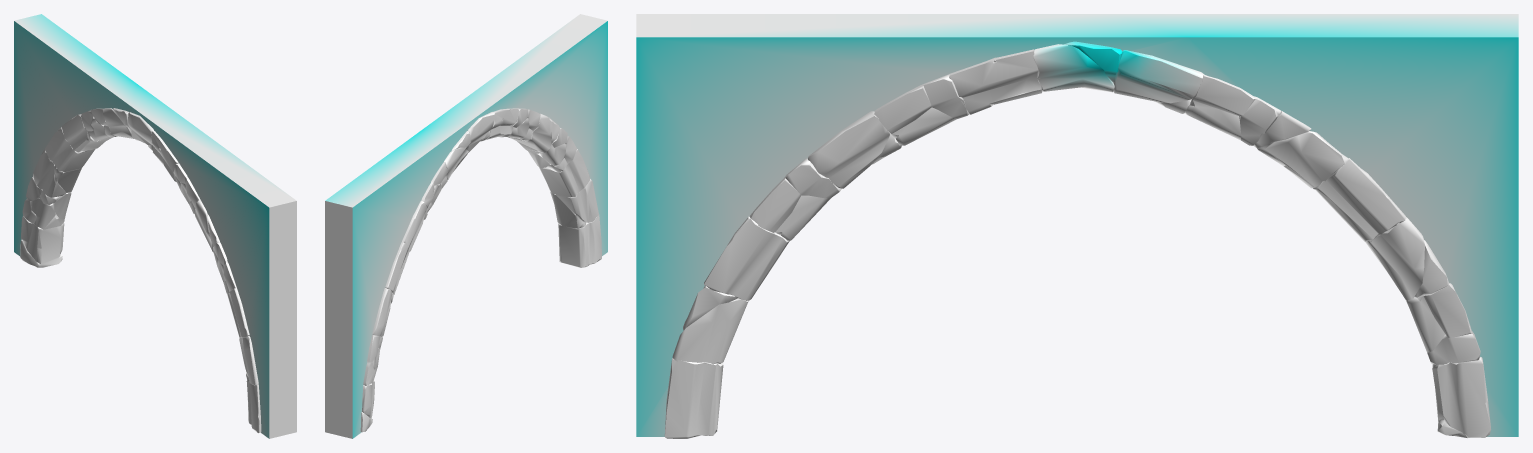
The model's file is SM_ArchWall_OpenArch_8x4_A.fbx.
3 renders of one model, left to right at view 1: azimuth 30°, elevation 25°; view 2: azimuth 150°, elevation 25°; view 3: azimuth 270°, elevation 25°, orthographic. The views are drawn at different scales.
Parts seen in each view (by area): view 1: SM_ArchWall_OpenArch_8x4_A_LOD0; view 2: SM_ArchWall_OpenArch_8x4_A_LOD0; view 3: SM_ArchWall_OpenArch_8x4_A_LOD0.
Boxes of the visible parts, x1,y1,x2,y2 form: SM_ArchWall_OpenArch_8x4_A_LOD0: (14, 14, 296, 438); SM_ArchWall_OpenArch_8x4_A_LOD0: (325, 14, 607, 438); SM_ArchWall_OpenArch_8x4_A_LOD0: (636, 14, 1518, 438).
Size of the model in its own units: 60.22 by 800 by 401.
